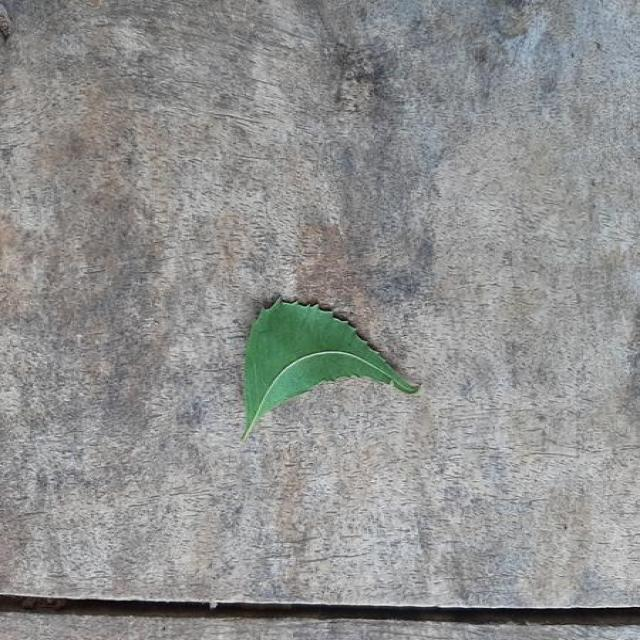neem: (245, 299, 418, 441)
